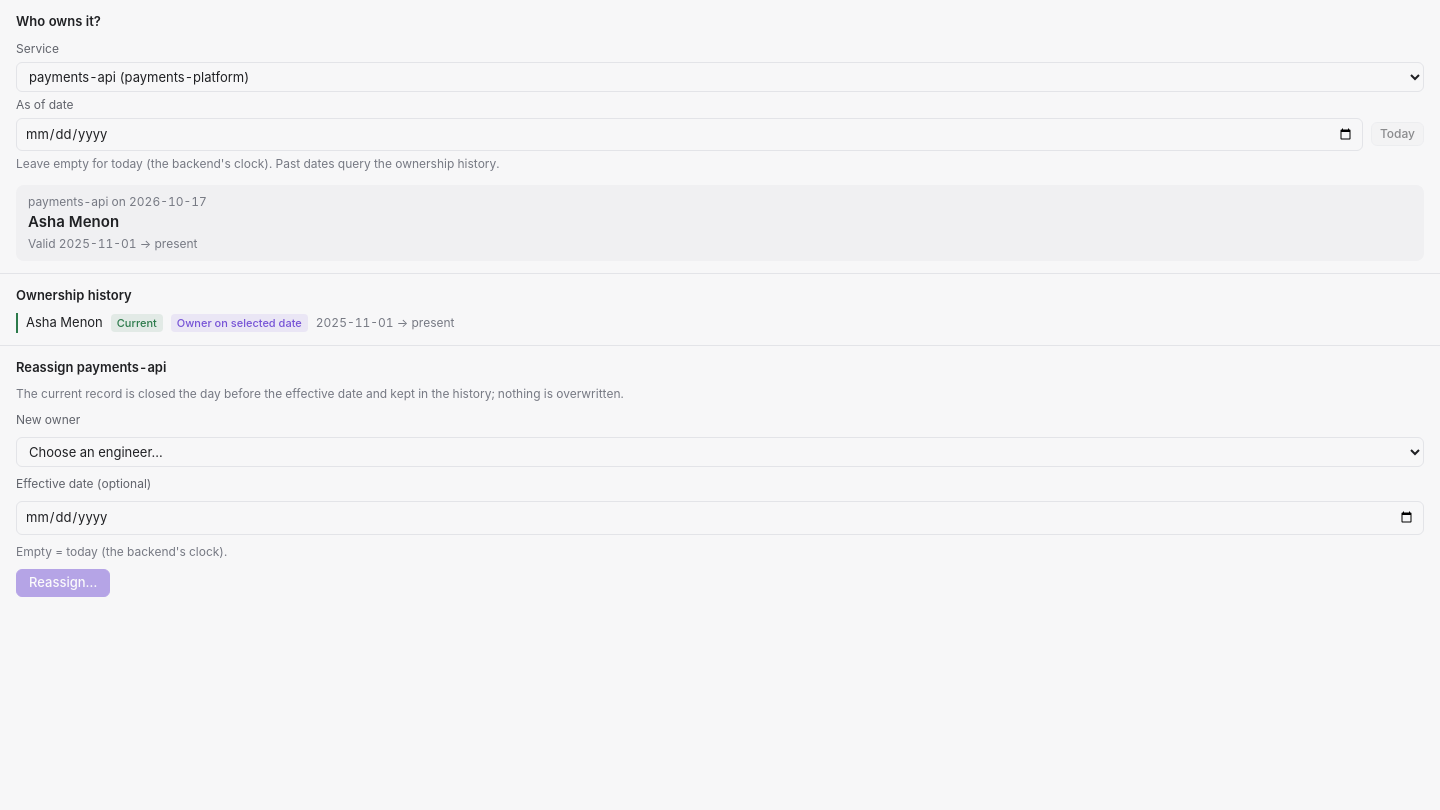
Test: OwnersPanel service selection and the demo sequence › sends only one reassignment even if the confirm button is hit repeatedly
Expected: the text "Asha Menon" below "2026-10-17" is shown, [28,212,119,231]
Select "Ravi Iyer (platform)" in the dropdown labelled "New owner": (720, 452) [16,437,1424,467]
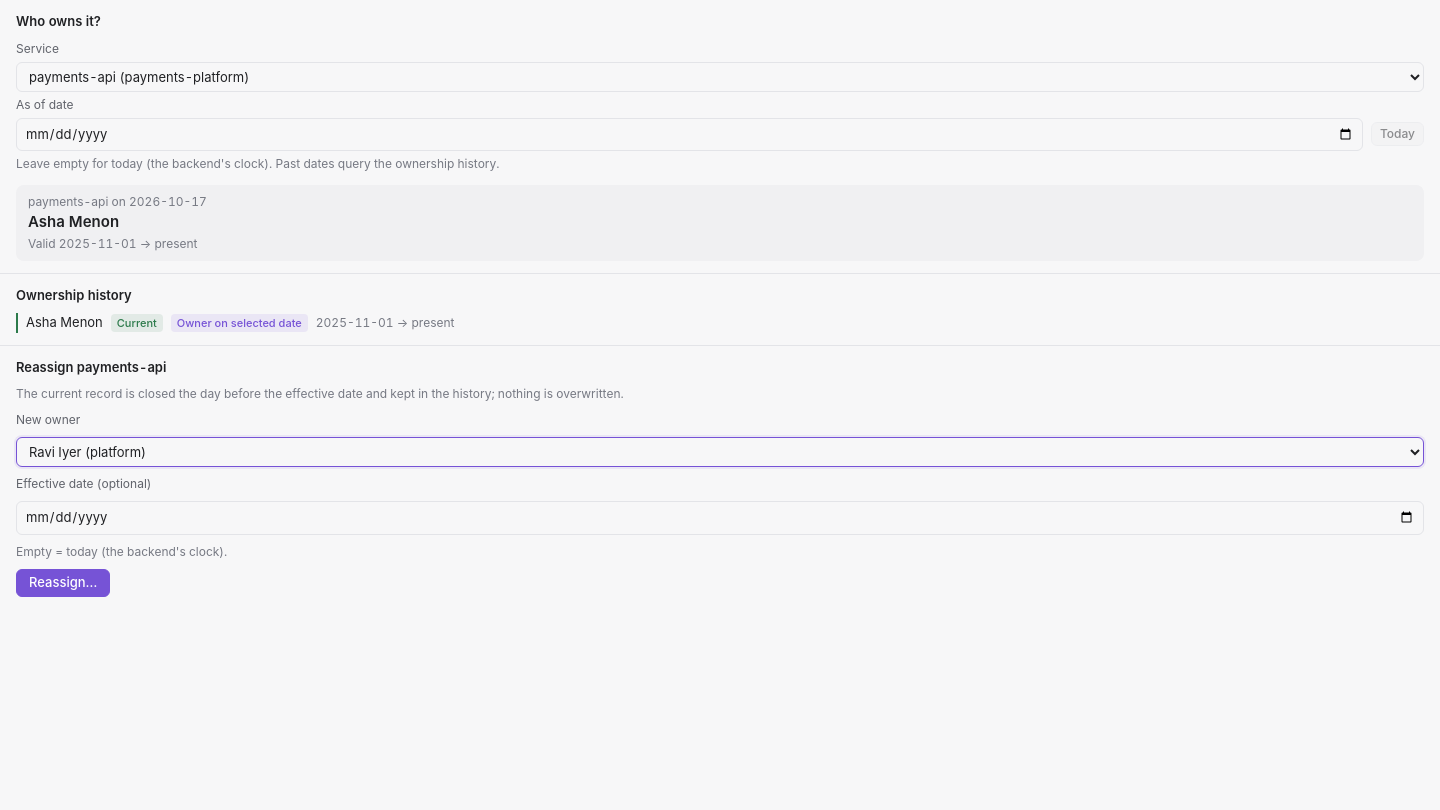
Click the button "Reassign…": (63, 582) [16,568,110,596]
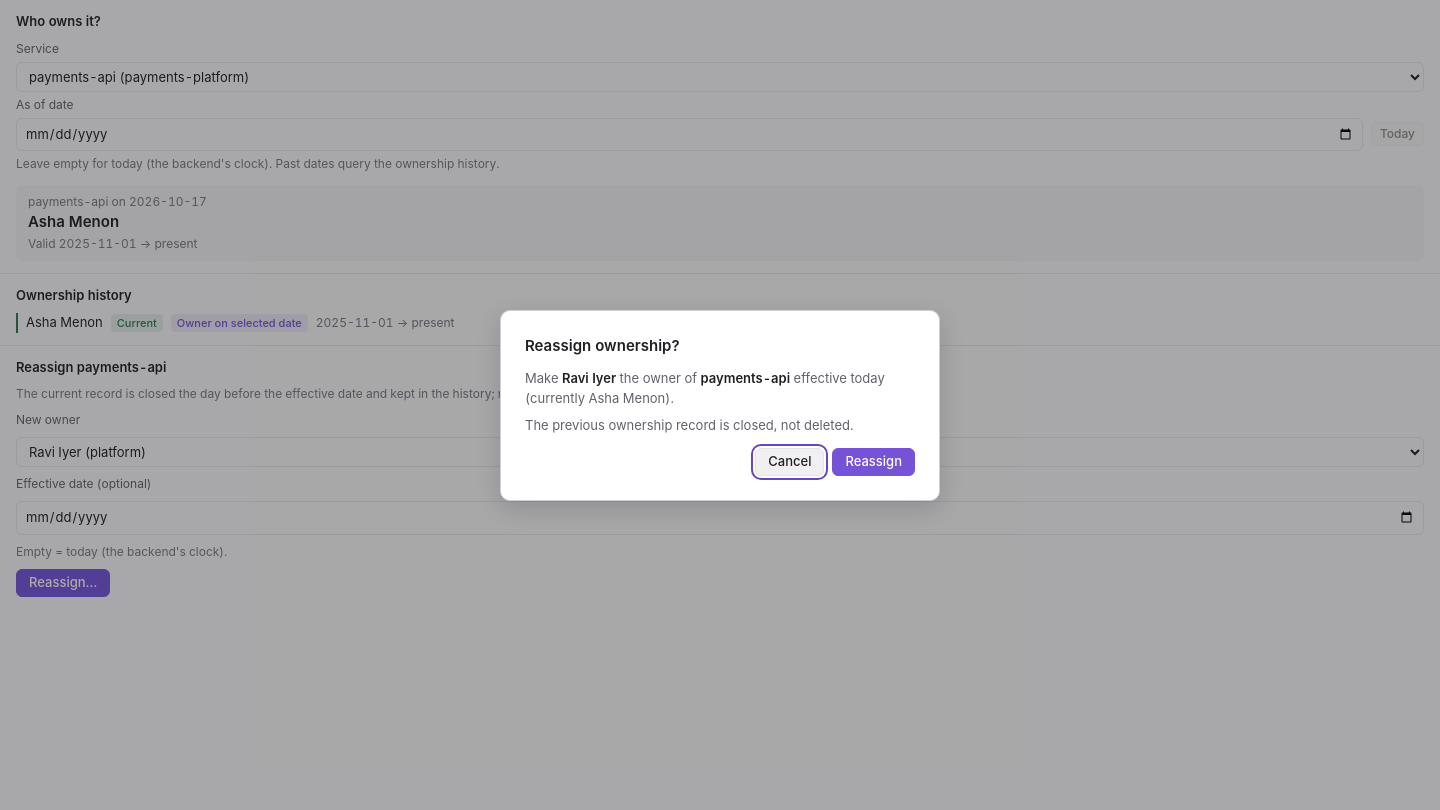
Click the button "Reassign": (874, 462) [832,448,915,476]
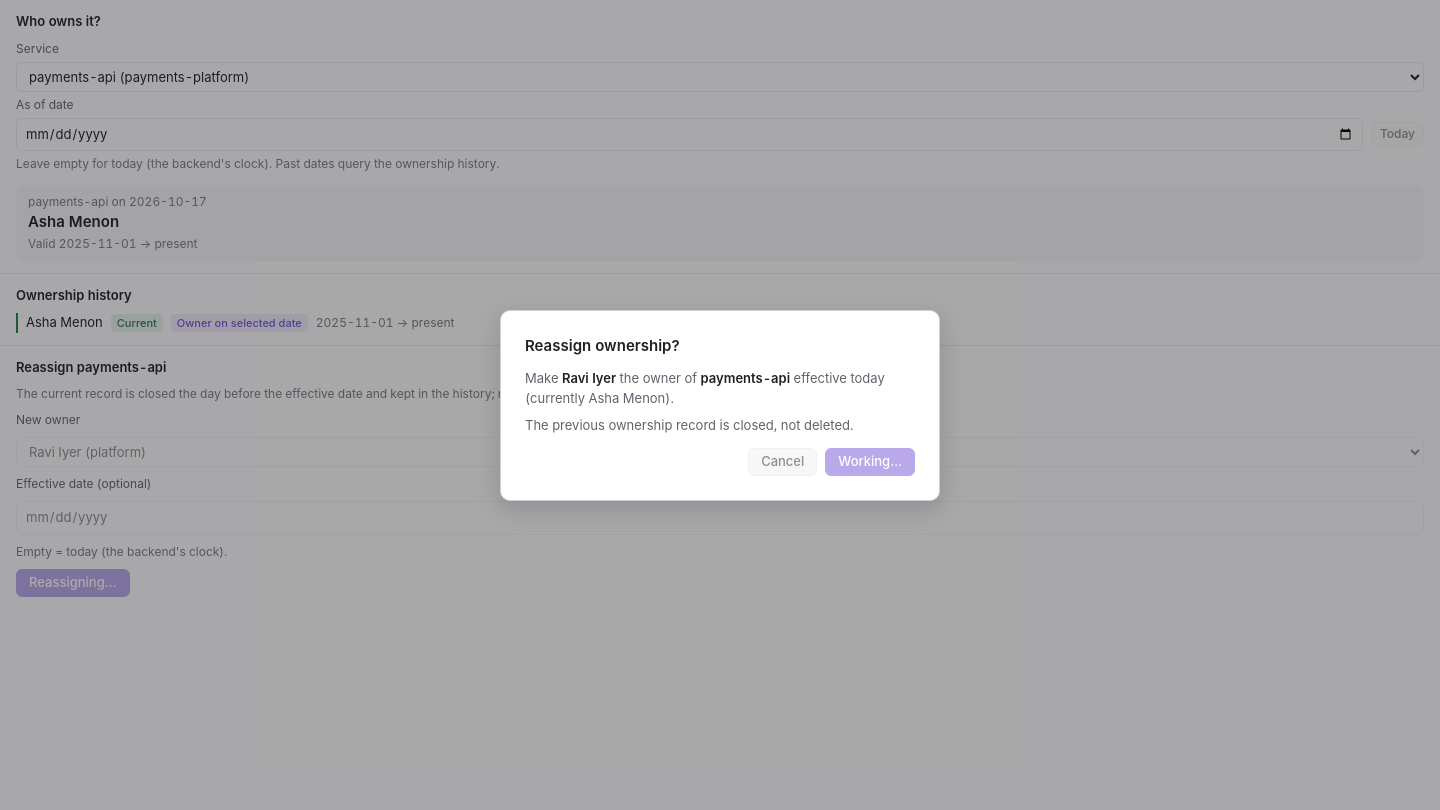
Click the button "Working…": (870, 462) [825,448,915,476]
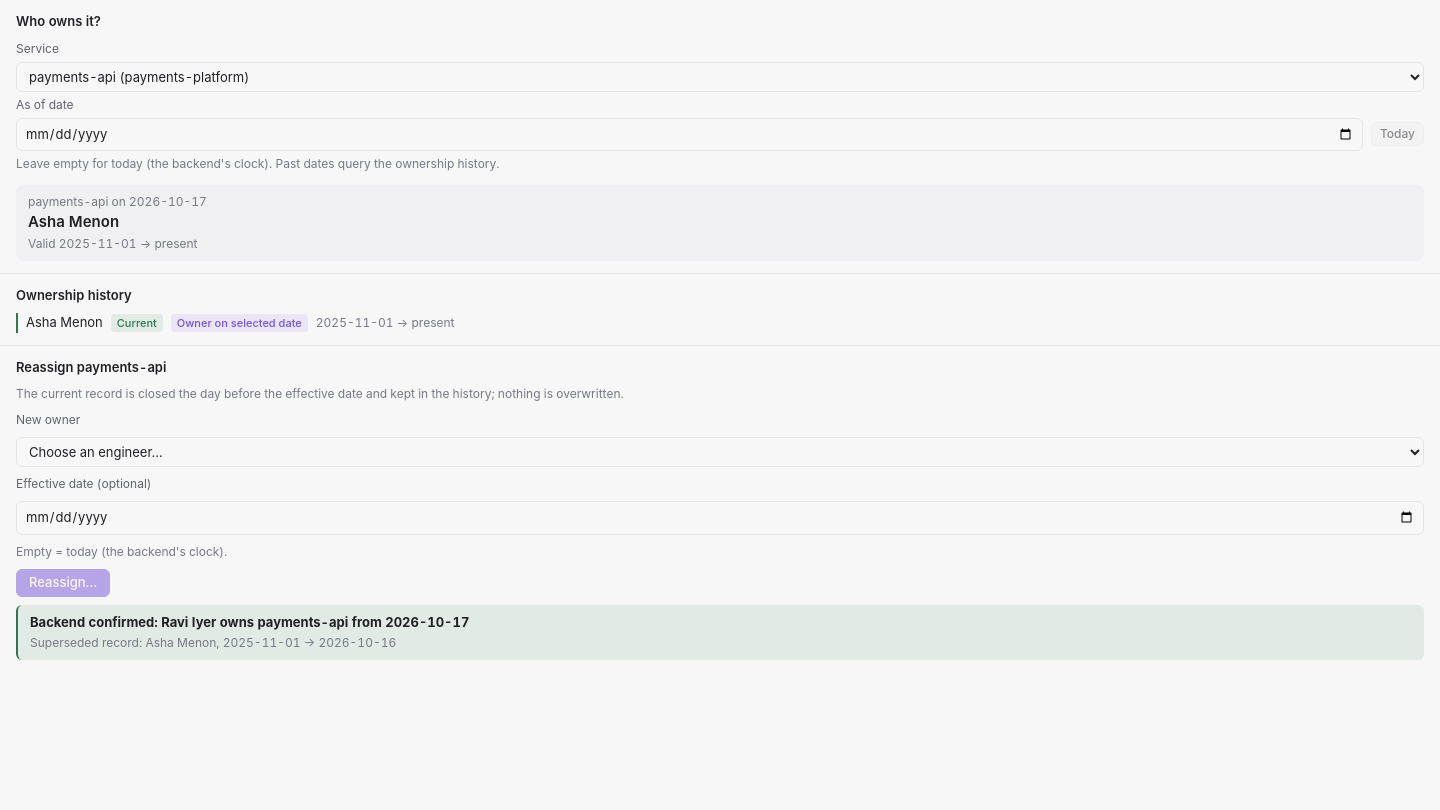
Result: the dialog is gone
